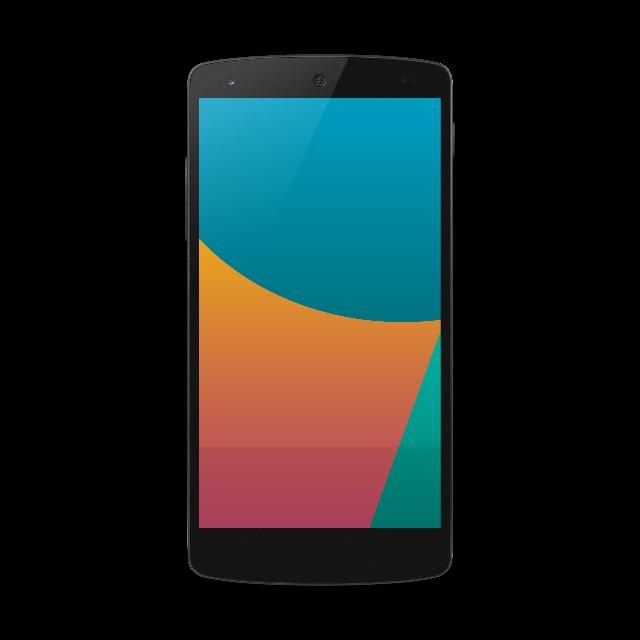Smartphone: (184, 54, 456, 588)
